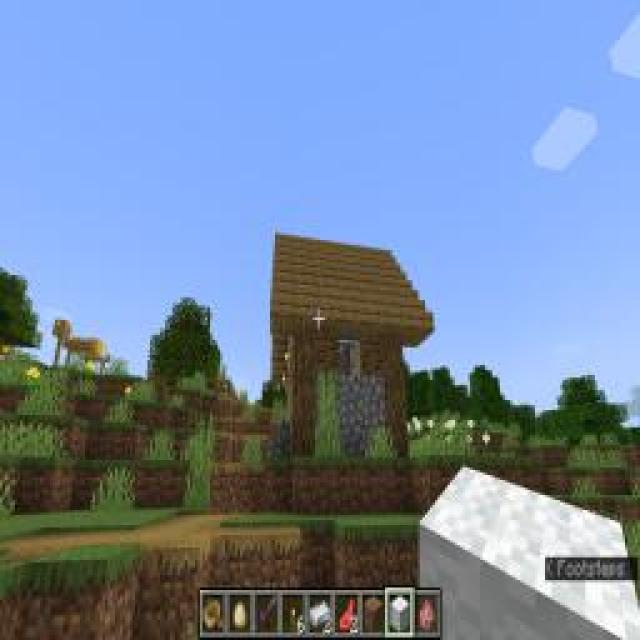Villager: (266, 229, 439, 459)
